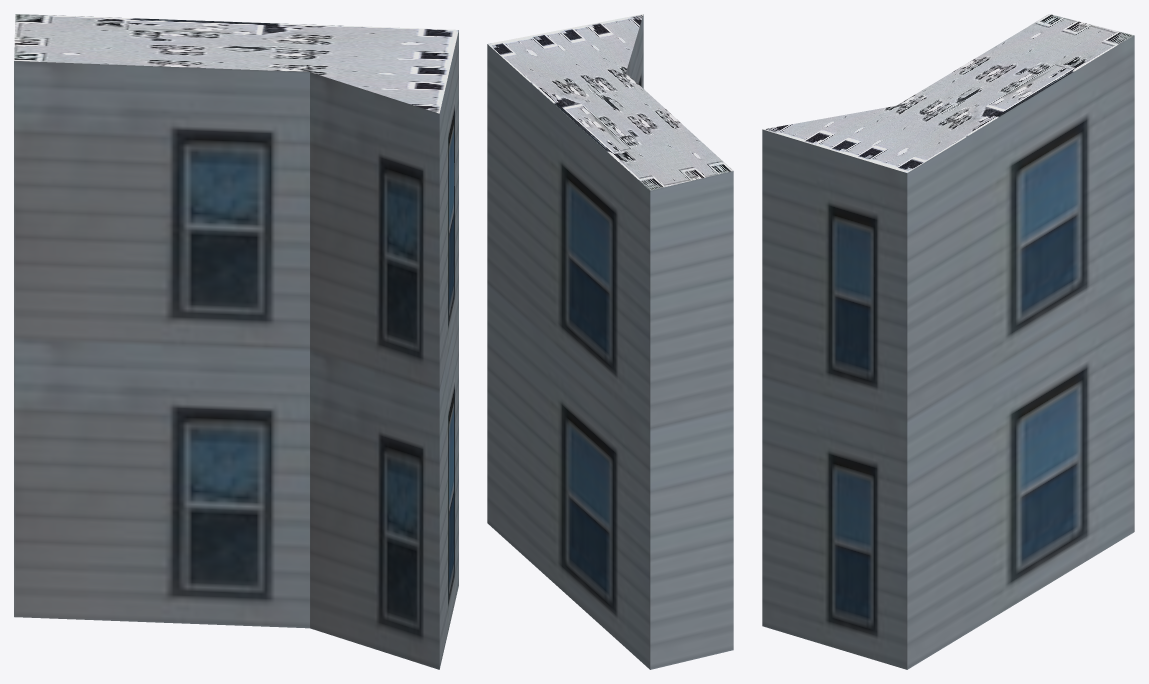
File: ResTex__5057.fbx
3 views of the same model, side by side, from view 1: azimuth 30°, elevation 25°; view 2: azimuth 150°, elevation 25°; view 3: azimuth 270°, elevation 25° (orthographic). The views are drawn at different scales.
Parts seen in each view (by area): view 1: CityEngineMaterial_18_m, CityEngineMaterial_8_m; view 2: CityEngineMaterial_18_m, CityEngineMaterial_8_m; view 3: CityEngineMaterial_18_m, CityEngineMaterial_8_m.
Part boxes in pixels (box(x1,y1,x2,y2)): CityEngineMaterial_18_m: box(14, 30, 458, 669); CityEngineMaterial_8_m: box(14, 14, 458, 113); CityEngineMaterial_18_m: box(487, 14, 733, 669); CityEngineMaterial_8_m: box(488, 14, 733, 190); CityEngineMaterial_18_m: box(762, 35, 1134, 669); CityEngineMaterial_8_m: box(763, 14, 1133, 172).
Bounding box in the file's own units: 4.12 × 6 × 4.07.
Materials: 2 (2 with a texture image).
